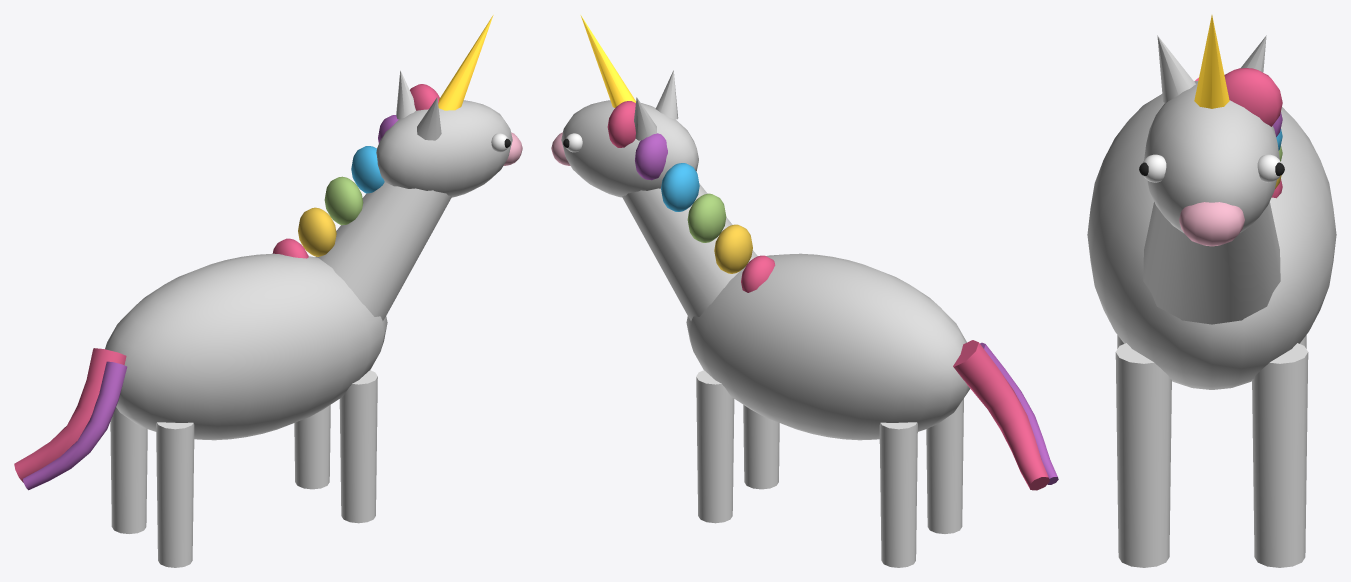
The model's file is unicorn.glb.
The picture shows the model from 3 angles, left to right: view 1: azimuth 30°, elevation 25°; view 2: azimuth 150°, elevation 25°; view 3: azimuth 270°, elevation 25°; orthographic projection. The views are drawn at different scales.
Parts seen in each view (by area): view 1: unicorn; view 2: unicorn; view 3: unicorn.
Boxes of the visible parts, x1=… form: unicorn: x1=14, y1=15, x2=522, y2=567; unicorn: x1=551, y1=15, x2=1058, y2=567; unicorn: x1=1087, y1=15, x2=1336, y2=567.
Size of the model in its own units: 3 by 2.56 by 0.88.
